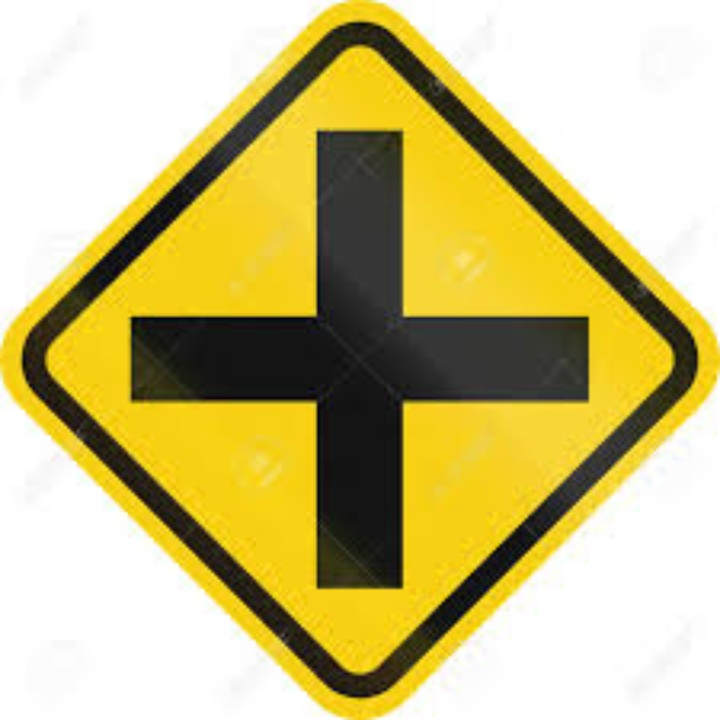inter: (124, 115, 600, 604)
